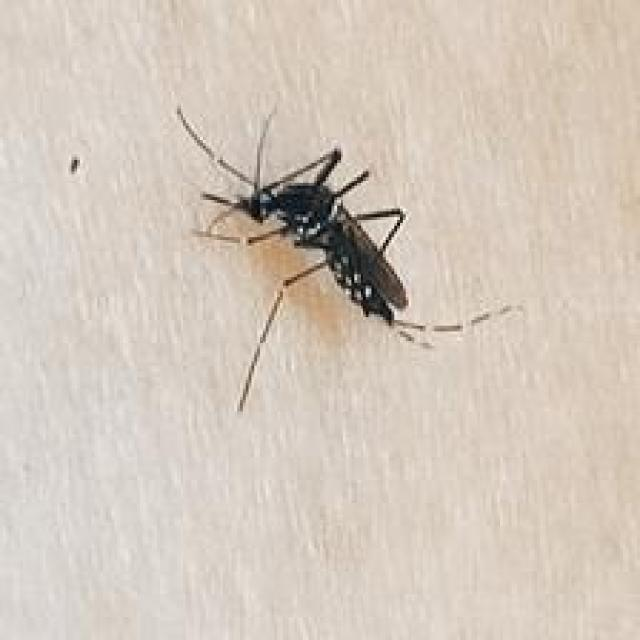Aedes albopictus: (174, 103, 523, 414)
